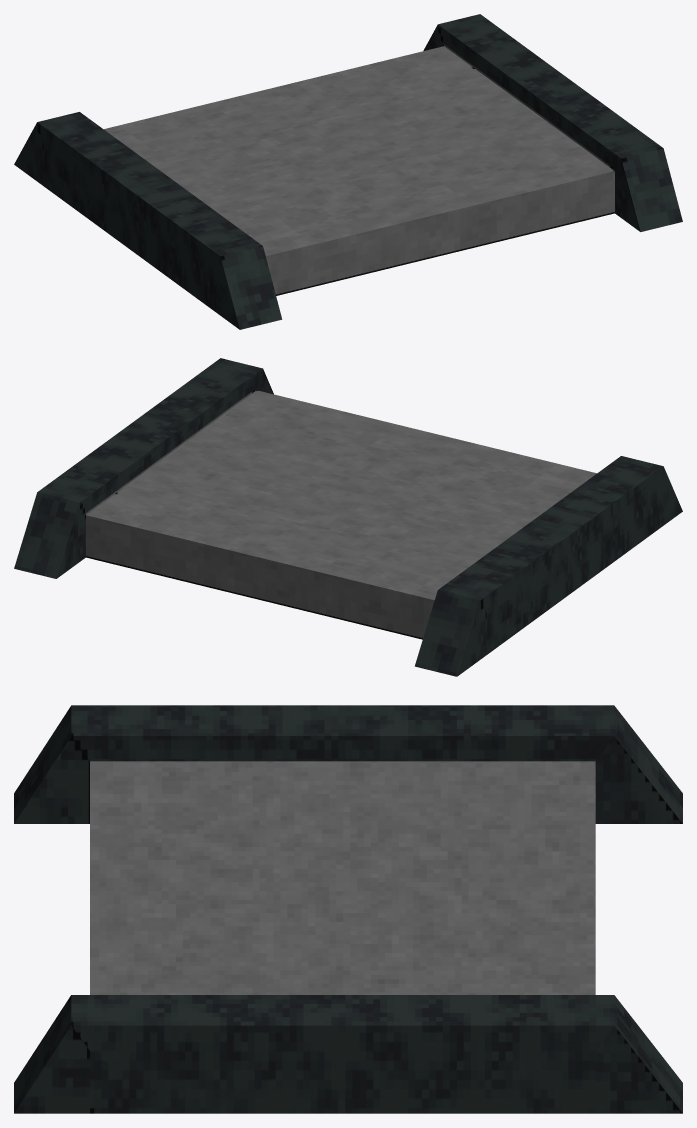
File: wallAccent.fbx
3 renders of one model, top to bottom at view 1: azimuth 30°, elevation 25°; view 2: azimuth 150°, elevation 25°; view 3: azimuth 270°, elevation 25°, orthographic. The views are drawn at different scales.
Visible parts, largest first — view 1: wallAccent1; view 2: wallAccent1; view 3: wallAccent1.
Part boxes in pixels (x1,y1,x2,y2): wallAccent1: (14, 14, 682, 329); wallAccent1: (14, 358, 682, 676); wallAccent1: (14, 705, 682, 1113).
Bounding box in the file's own units: 0.9585 × 1.09 × 0.1392.
